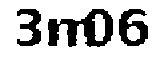0: (84, 5, 117, 50)
3: (14, 7, 44, 53)
6: (119, 5, 152, 47)
n: (48, 13, 80, 51)
